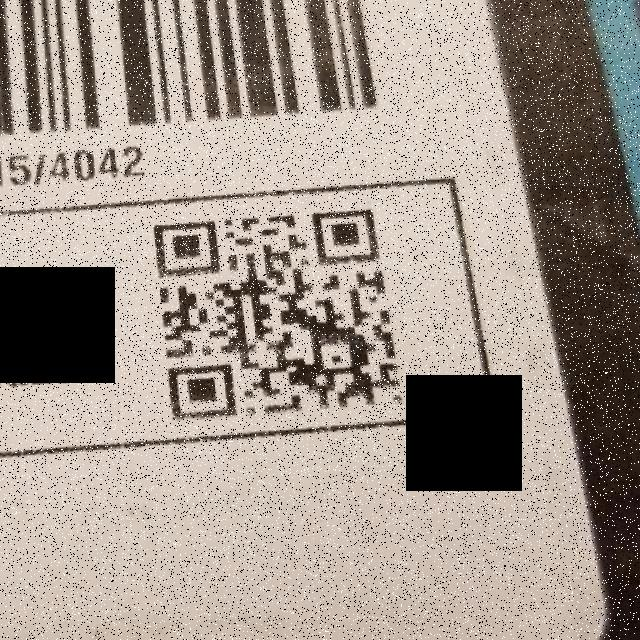QR_CODE: (142, 192, 416, 438)
